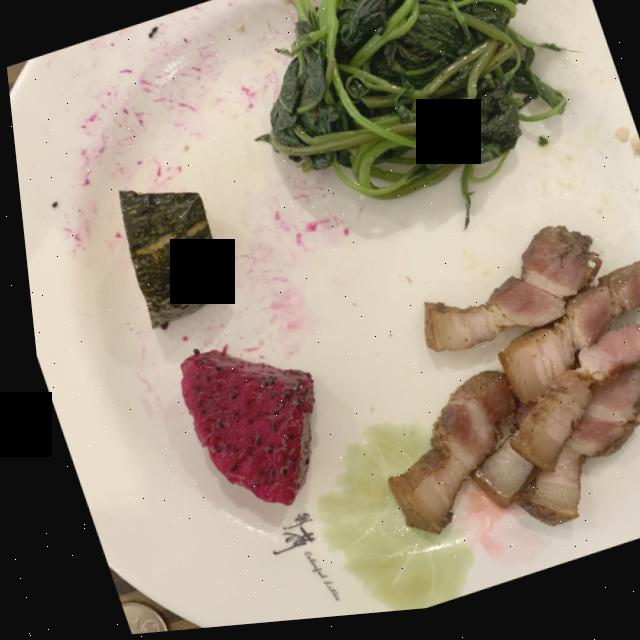coin: (108, 602, 153, 635)
grilled pork: (376, 235, 640, 539)
pumpkin: (114, 191, 217, 329)
sweet potato leaves: (257, 0, 563, 230)
